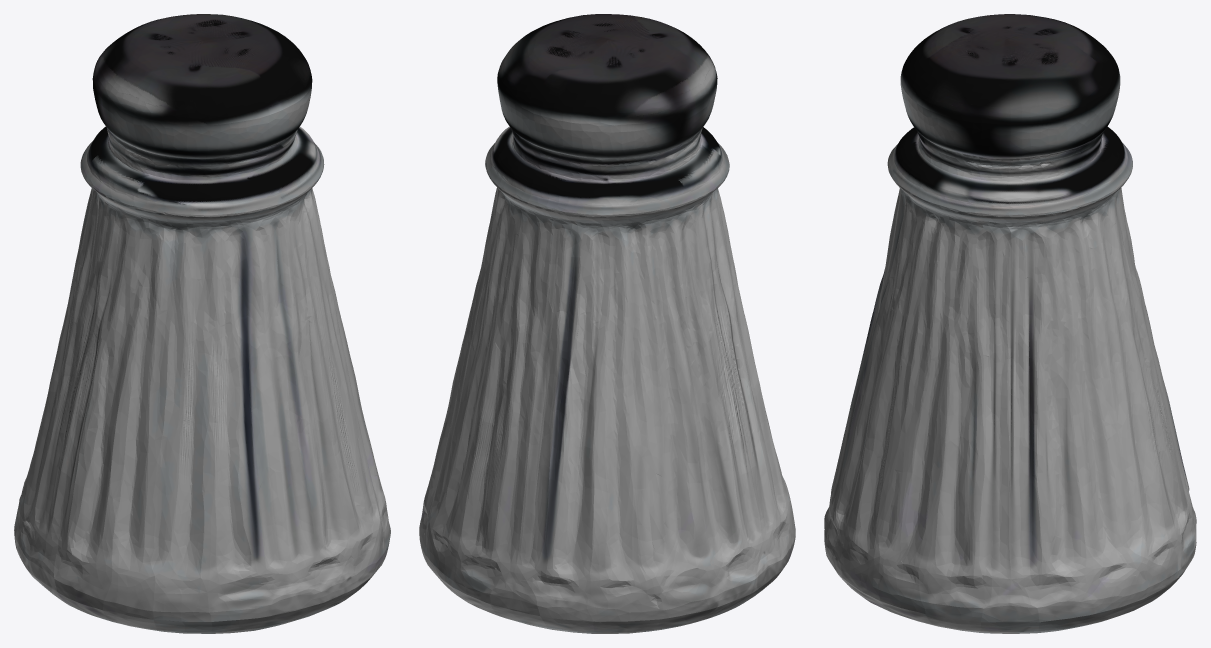
The model's file is salt_shaker.glb.
3 views of the same model, side by side, from view 1: azimuth 30°, elevation 25°; view 2: azimuth 150°, elevation 25°; view 3: azimuth 270°, elevation 25° (orthographic).
Parts seen in each view (by area): view 1: salt_shaker.obj; view 2: salt_shaker.obj; view 3: salt_shaker.obj.
Part boxes in pixels (box(x1,y1,x2,y2)): salt_shaker.obj: box(14, 14, 390, 633); salt_shaker.obj: box(419, 14, 795, 633); salt_shaker.obj: box(824, 14, 1196, 633).
Size of the model in its own units: 0.0789 by 0.125 by 0.0788.
1 material, 1 textured.
